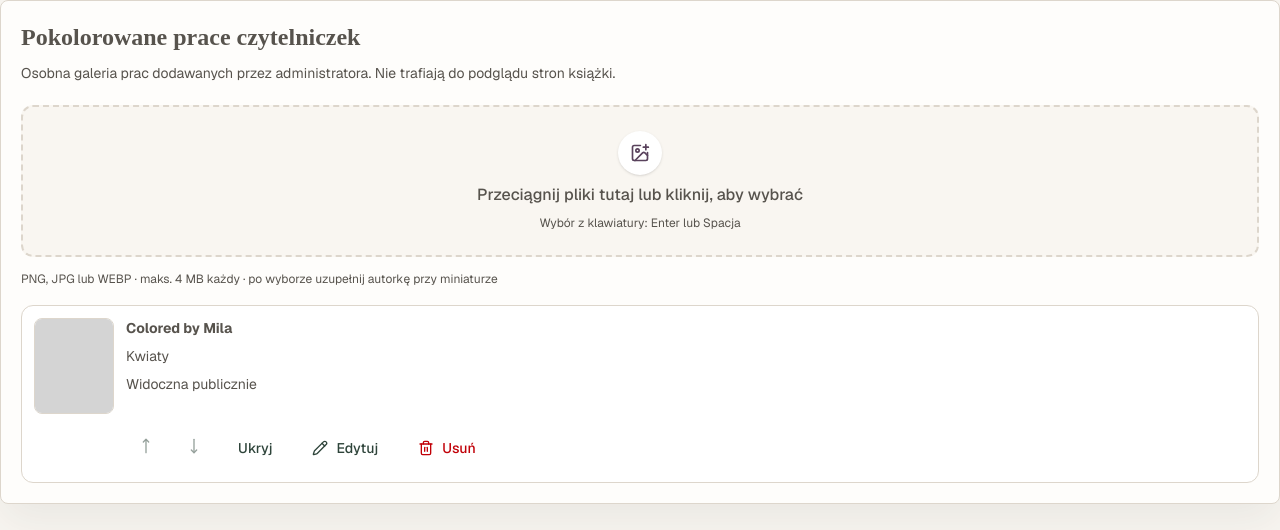
it: ReaderArtworkManager › shows success only after a valid persisted artwork list is returned
Click the button "Ukryj" at (255, 448), box x1=222 y1=426 x2=288 y2=470
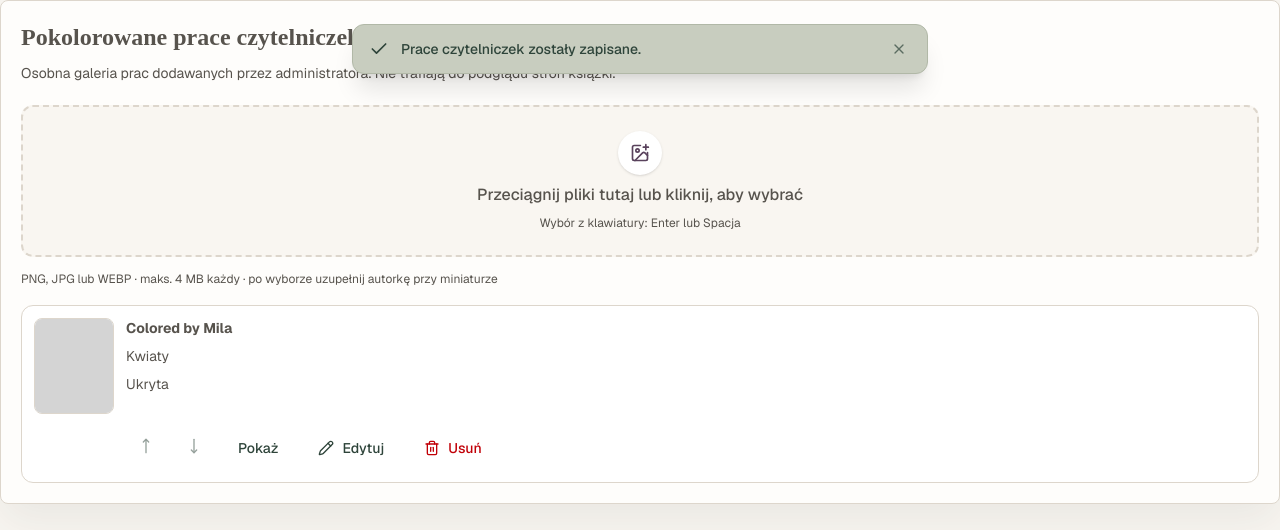
Check: the message reads "Prace czytelniczek zostały zapisane.", box x1=401 y1=40 x2=641 y2=58
Check: the text "Ukryta" is shown, box x1=126 y1=375 x2=169 y2=393
